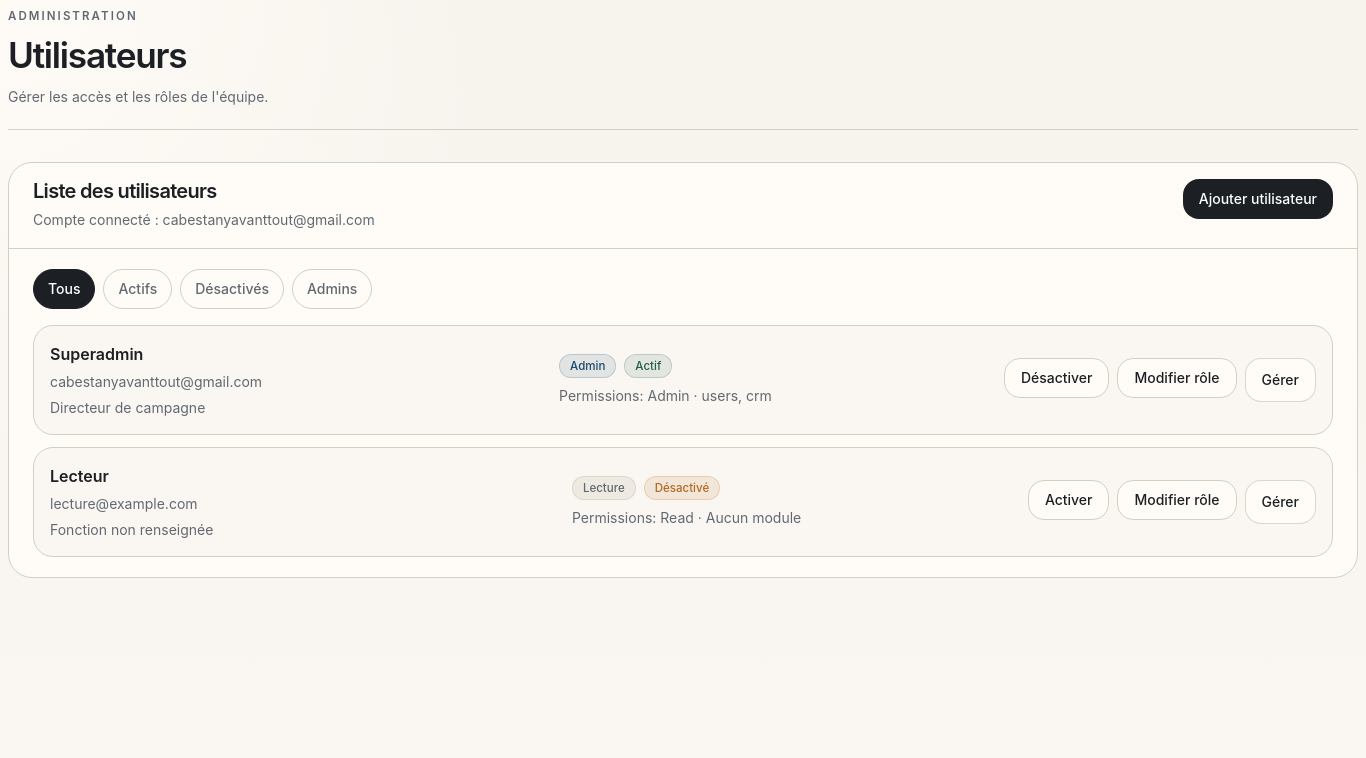
Scenario: UsersPage › ouvre un drawer avec infos, sécurité, permissions et actions sensibles
The width and height of the screenshot is (1366, 758).
Click the button "Gérer" in the row of "· users, crm" at point(1280, 380), box [1244,358,1316,402]
(page scrolled)
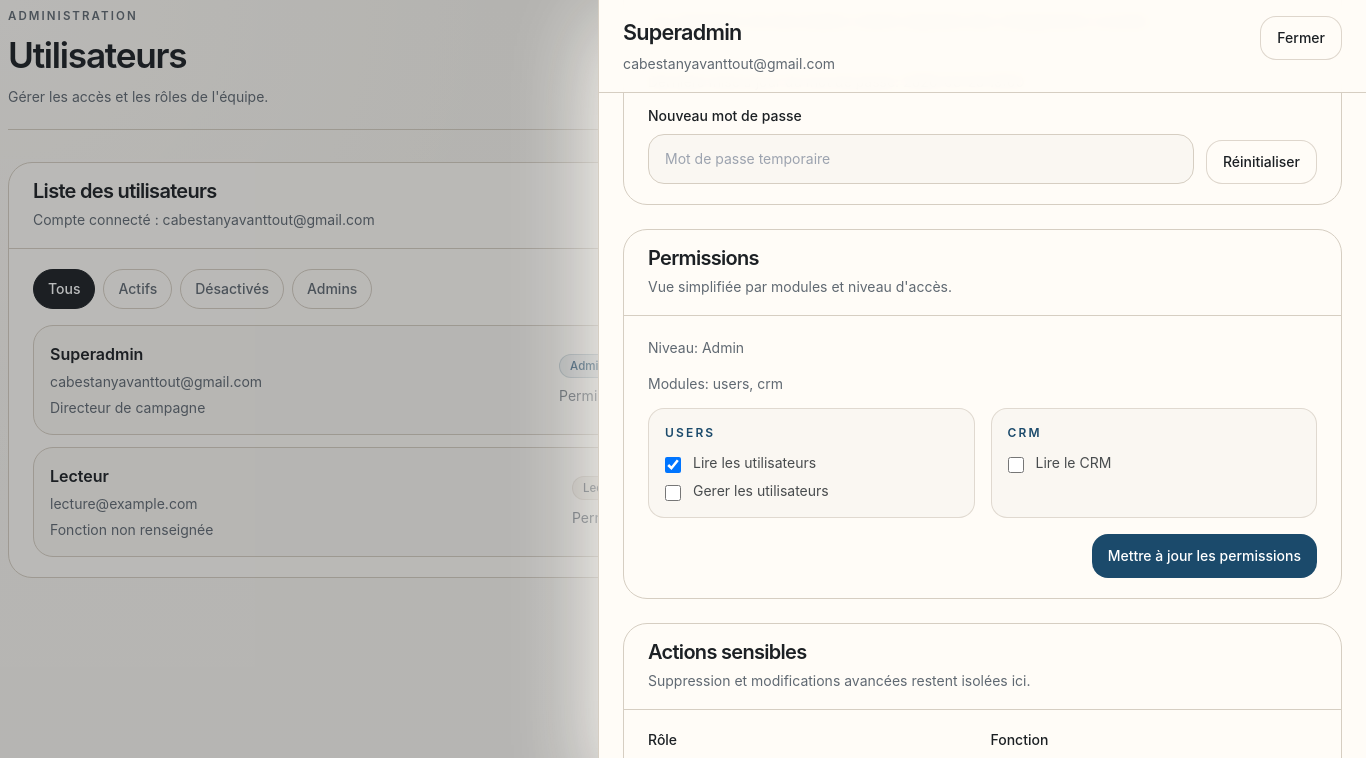
Check: the heading "Permissions" is shown, box [648,246,759,270]
Check: the heading "Actions sensibles" is shown, box [648,640,806,664]
Check: the text "Modules: users, crm" is shown, box [648,375,783,392]
